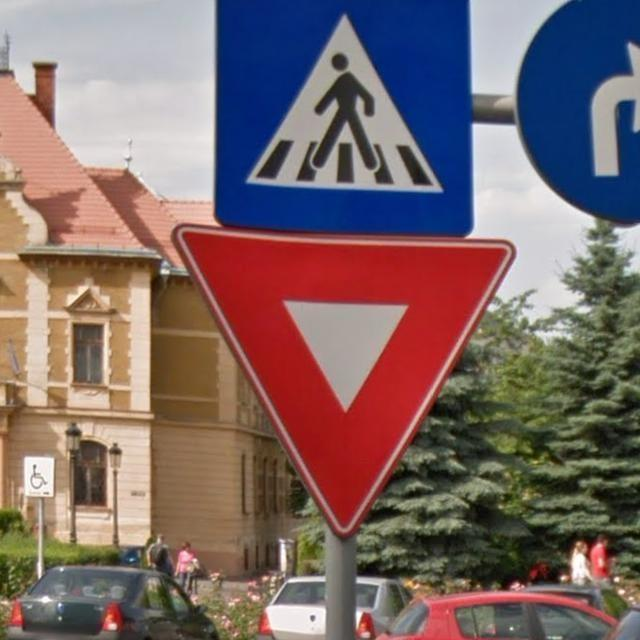info_crosswalk: (213, 3, 474, 235)
prio_give_way: (168, 220, 516, 541)
